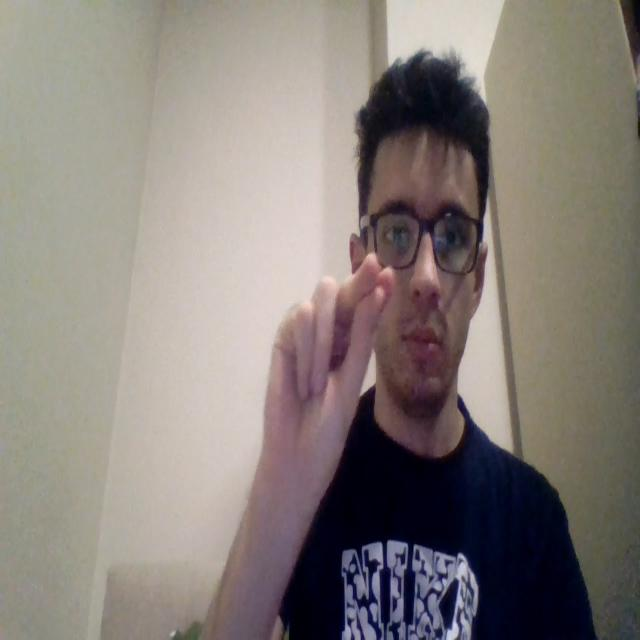no: (258, 250, 392, 521)
